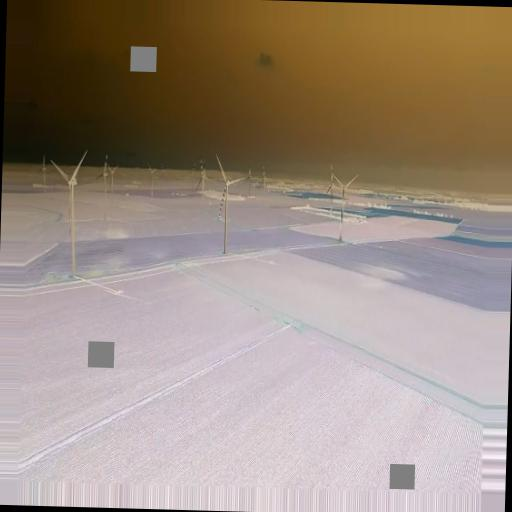wind turbine: (51, 150, 90, 271), (213, 151, 246, 255), (331, 168, 361, 246)
